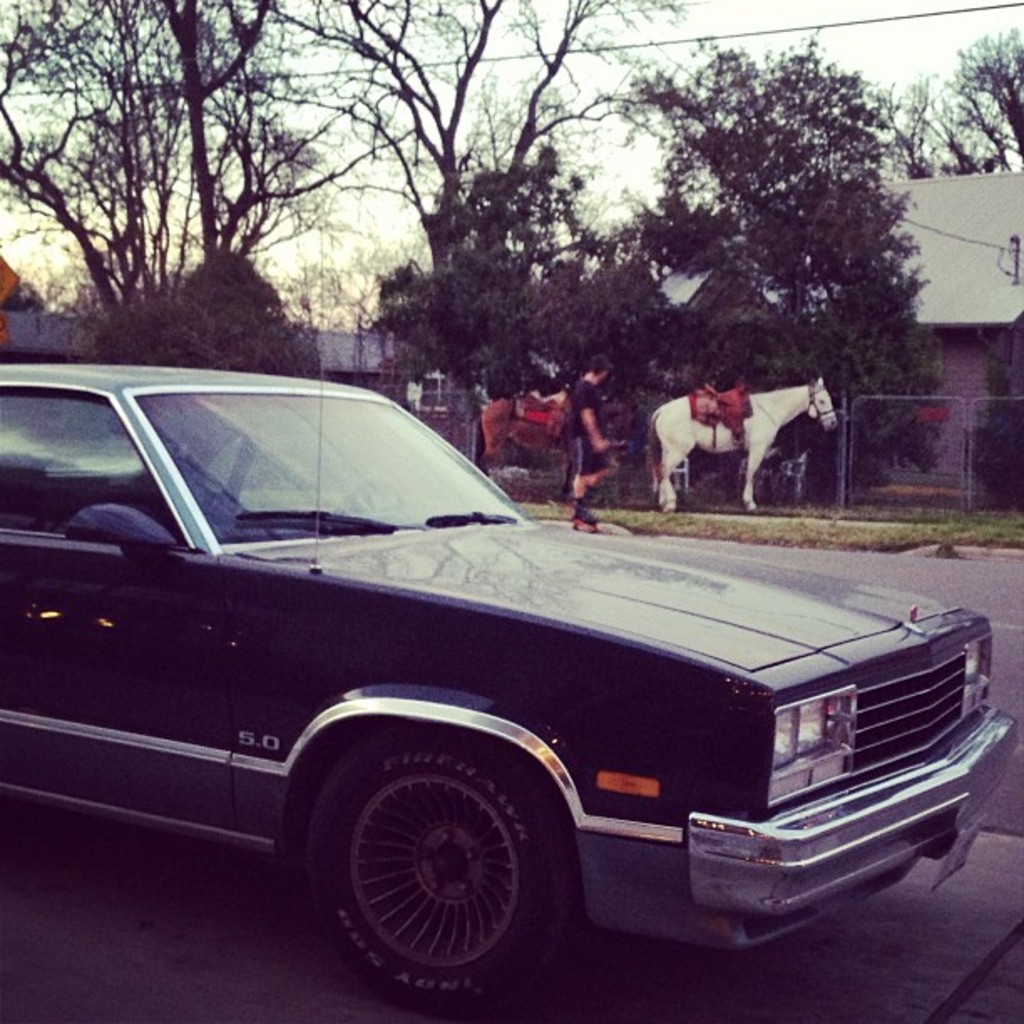Horse: (643, 373, 839, 514), (469, 386, 647, 481), (469, 390, 621, 499)
